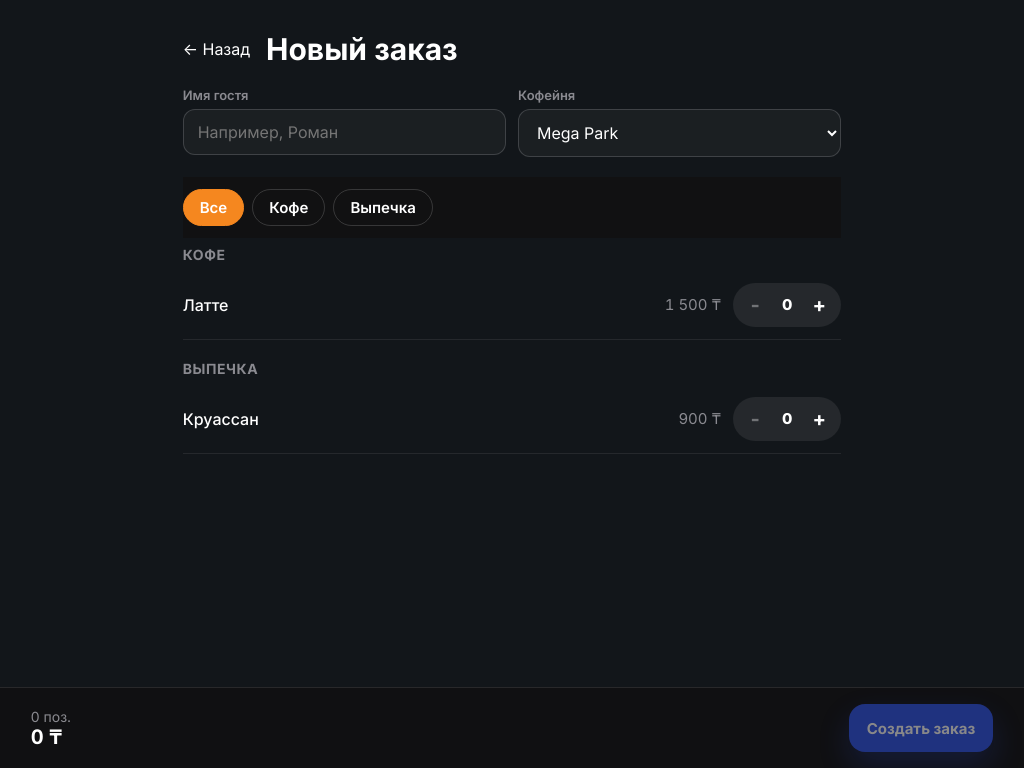
Test: PosOrderScreen › groups the menu by category and filters when a tab is chosen
Click the tab "Выпечка". click: (383, 207)
box: left=333, top=189, right=433, bottom=226
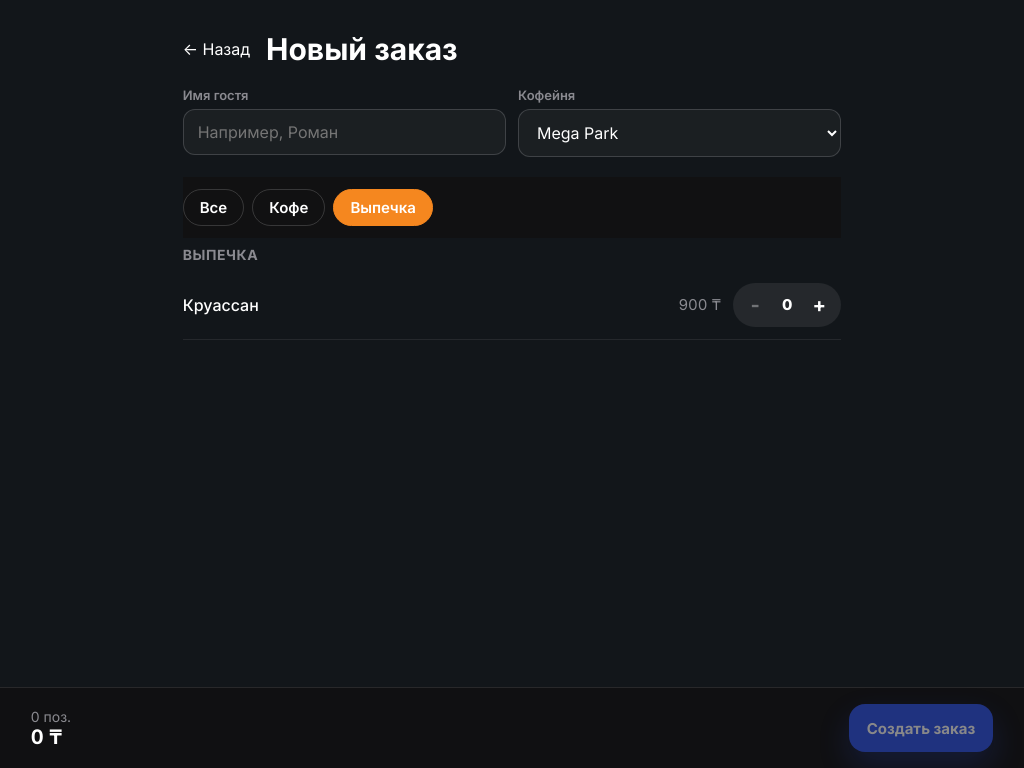
Check: the text "Круассан" is shown, box left=183, top=295, right=259, bottom=315
Check: the text "Латте" is gone
